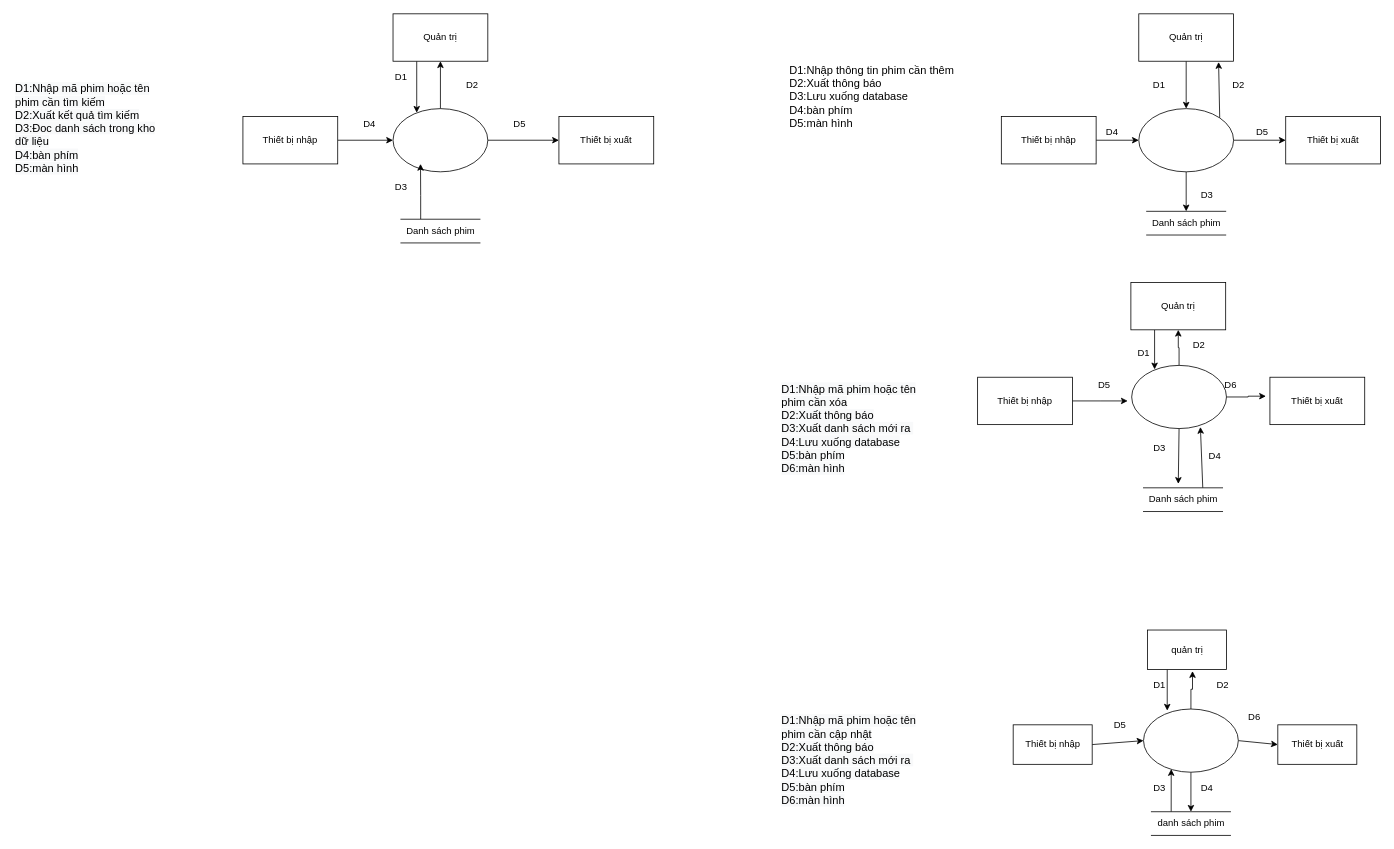
This 1394x849 diagram has some shape labels left out. The shapes that lost their labels are listed below. From the top down, each one's centre as x and y in pixels, then its label:
At (440,140): "Tìm kiếm".
At (1186,140): "Thêm phim".
At (1178,397): "Xóa phim".
At (1190,740): "Cập nhật phim".
